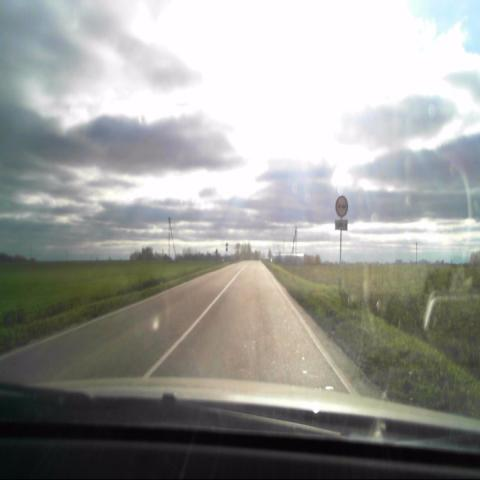3_20: (336, 195, 348, 217)
8_2_1: (334, 218, 348, 230)
